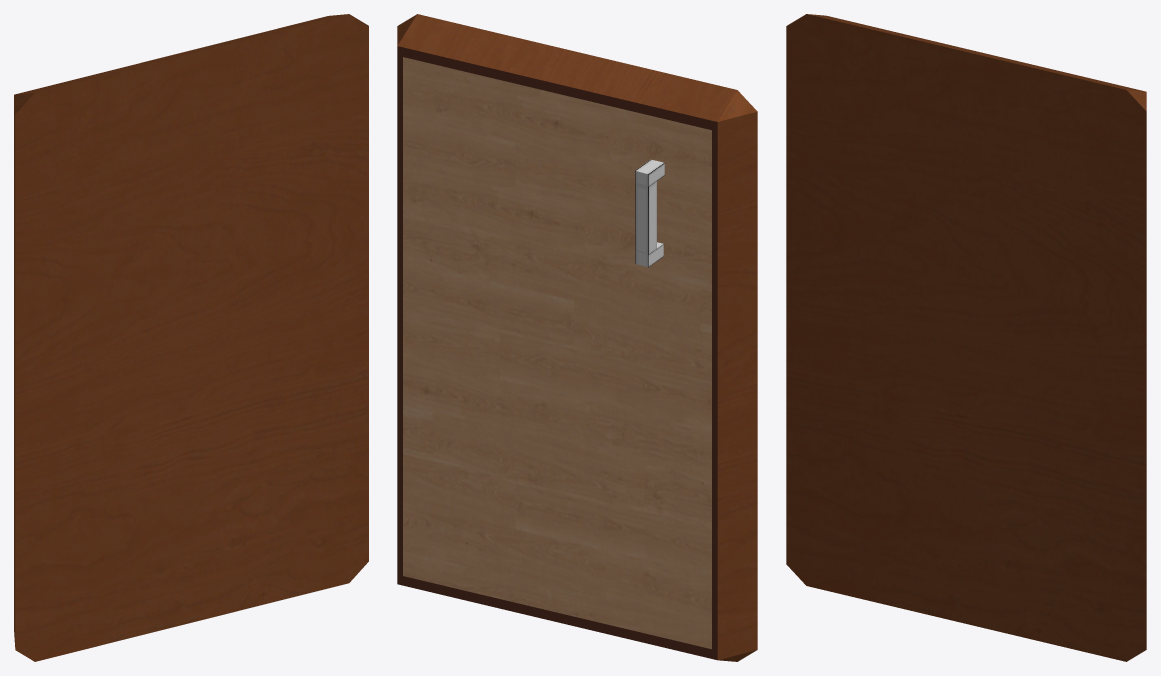
The model's file is Cabinet_Kitchen_Open_Door.fbx.
3 renders of one model, left to right at view 1: azimuth 30°, elevation 25°; view 2: azimuth 150°, elevation 25°; view 3: azimuth 330°, elevation 25°, orthographic.
Parts seen in each view (by area): view 1: Cabinet_Door; view 2: Cabinet_Door; view 3: Cabinet_Door.
Part boxes in pixels (x1,y1,x2,y2): Cabinet_Door: [14, 14, 368, 661]; Cabinet_Door: [397, 14, 757, 661]; Cabinet_Door: [786, 14, 1146, 661].
Size of the model in its own units: 47.47 by 72.51 by 8.37.
